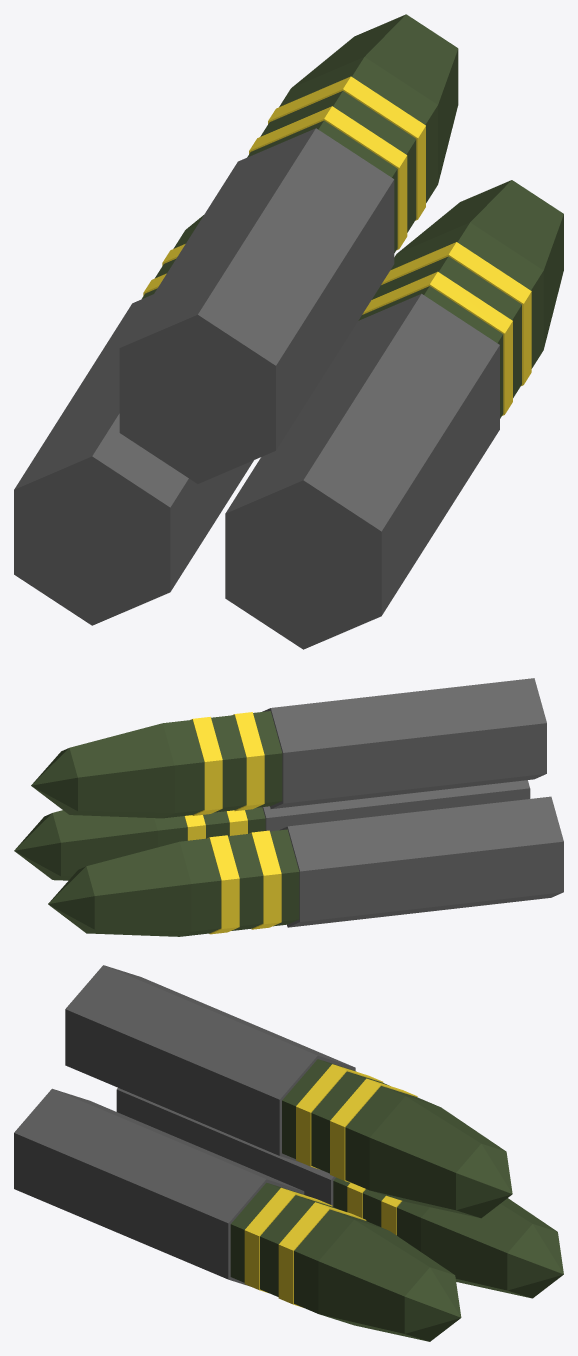
Rendered from ce_ammo2_rcl84_he_b.obj.
The picture shows the model from 3 angles, top to bottom: view 1: azimuth 30°, elevation 25°; view 2: azimuth 150°, elevation 25°; view 3: azimuth 270°, elevation 25°; orthographic projection. The views are drawn at different scales.
Visible parts, largest first — view 1: ce_ammo2_rcl84_he_b_16, ce_ammo2_rcl84_he_b_8, ce_ammo2_rcl84_he_b_0, ce_ammo2_rcl84_he_b_14, ce_ammo2_rcl84_he_b_22, ce_ammo2_rcl84_he_b_13, ce_ammo2_rcl84_he_b_21, ce_ammo2_rcl84_he_b_19, ce_ammo2_rcl84_he_b_18, ce_ammo2_rcl84_he_b_20, ce_ammo2_rcl84_he_b_11, ce_ammo2_rcl84_he_b_10 (+3 smaller); view 2: ce_ammo2_rcl84_he_b_0, ce_ammo2_rcl84_he_b_16, ce_ammo2_rcl84_he_b_6, ce_ammo2_rcl84_he_b_22, ce_ammo2_rcl84_he_b_8, ce_ammo2_rcl84_he_b_14, ce_ammo2_rcl84_he_b_5, ce_ammo2_rcl84_he_b_21, ce_ammo2_rcl84_he_b_19, ce_ammo2_rcl84_he_b_3, ce_ammo2_rcl84_he_b_4, ce_ammo2_rcl84_he_b_2 (+12 smaller); view 3: ce_ammo2_rcl84_he_b_16, ce_ammo2_rcl84_he_b_8, ce_ammo2_rcl84_he_b_22, ce_ammo2_rcl84_he_b_14, ce_ammo2_rcl84_he_b_6, ce_ammo2_rcl84_he_b_0, ce_ammo2_rcl84_he_b_15, ce_ammo2_rcl84_he_b_7, ce_ammo2_rcl84_he_b_23, ce_ammo2_rcl84_he_b_21, ce_ammo2_rcl84_he_b_13, ce_ammo2_rcl84_he_b_11 (+11 smaller).
Part boxes in pixels (x1,y1,x2,y2): ce_ammo2_rcl84_he_b_16: (119,128,394,483); ce_ammo2_rcl84_he_b_8: (225,293,499,649); ce_ammo2_rcl84_he_b_0: (14,294,253,625); ce_ammo2_rcl84_he_b_14: (397,180,563,349); ce_ammo2_rcl84_he_b_22: (292,14,458,183); ce_ammo2_rcl84_he_b_13: (390,222,543,368); ce_ammo2_rcl84_he_b_21: (279,57,437,202); ce_ammo2_rcl84_he_b_19: (260,91,416,232); ce_ammo2_rcl84_he_b_18: (249,106,407,249); ce_ammo2_rcl84_he_b_20: (268,76,425,220); ce_ammo2_rcl84_he_b_11: (372,256,521,397); ce_ammo2_rcl84_he_b_10: (362,271,512,415); ce_ammo2_rcl84_he_b_0: (279,796,563,927); ce_ammo2_rcl84_he_b_16: (262,678,546,808); ce_ammo2_rcl84_he_b_6: (86,841,191,936); ce_ammo2_rcl84_he_b_22: (69,723,174,818); ce_ammo2_rcl84_he_b_8: (262,780,530,831); ce_ammo2_rcl84_he_b_14: (52,810,157,880); ce_ammo2_rcl84_he_b_5: (180,838,221,936); ce_ammo2_rcl84_he_b_21: (163,720,204,818); ce_ammo2_rcl84_he_b_19: (211,715,246,812); ce_ammo2_rcl84_he_b_3: (228,833,263,930); ce_ammo2_rcl84_he_b_4: (207,835,239,934); ce_ammo2_rcl84_he_b_2: (249,830,281,929); ce_ammo2_rcl84_he_b_16: (65,965,355,1162); ce_ammo2_rcl84_he_b_8: (14,1088,304,1286); ce_ammo2_rcl84_he_b_22: (369,1096,505,1217); ce_ammo2_rcl84_he_b_14: (318,1219,454,1341); ce_ammo2_rcl84_he_b_6: (421,1198,556,1297); ce_ammo2_rcl84_he_b_0: (116,1088,335,1206); ce_ammo2_rcl84_he_b_15: (404,1267,461,1341); ce_ammo2_rcl84_he_b_7: (507,1224,563,1298); ce_ammo2_rcl84_he_b_23: (456,1143,512,1218); ce_ammo2_rcl84_he_b_21: (345,1086,439,1190); ce_ammo2_rcl84_he_b_13: (294,1209,387,1313); ce_ammo2_rcl84_he_b_11: (260,1195,338,1296).
Bounding box in the file's own units: 0.758 × 0.326 × 0.758.
